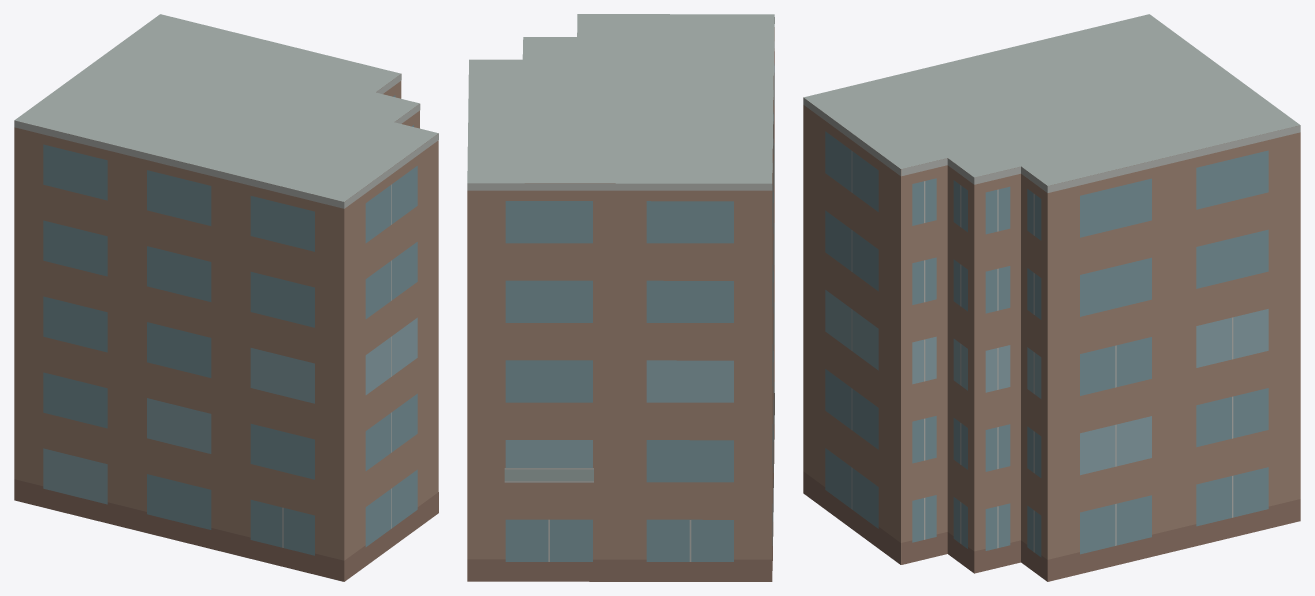
The model's file is survey-upis-32914171.glb.
The picture shows the model from 3 angles, left to right: view 1: azimuth 30°, elevation 25°; view 2: azimuth 150°, elevation 25°; view 3: azimuth 270°, elevation 25°; orthographic projection. The views are drawn at different scales.
Parts seen in each view (by area): view 1: survey-upis-32914171.tmp; view 2: survey-upis-32914171.tmp; view 3: survey-upis-32914171.tmp.
Boxes of the visible parts, x1,y1,x2,y2 form: survey-upis-32914171.tmp: [14, 14, 438, 581]; survey-upis-32914171.tmp: [467, 14, 774, 581]; survey-upis-32914171.tmp: [803, 14, 1300, 581].
Size of the model in its own units: 12.54 by 13.45 by 15.32.
